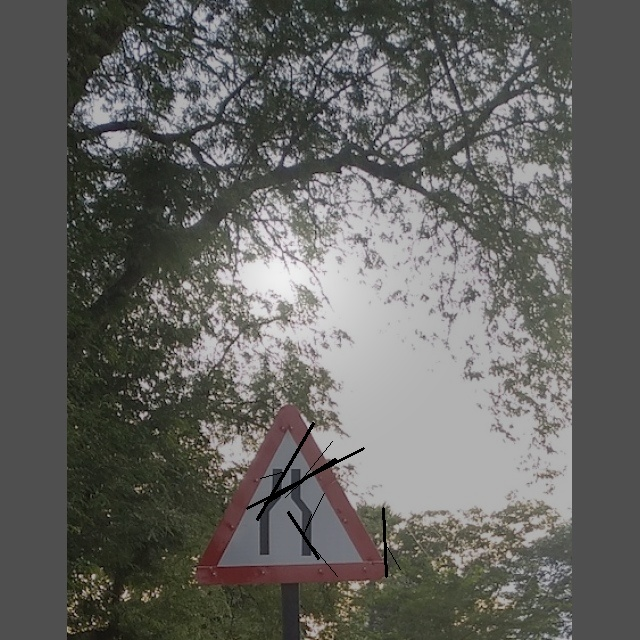Narrow_Road_Ahead: (198, 403, 389, 583)
